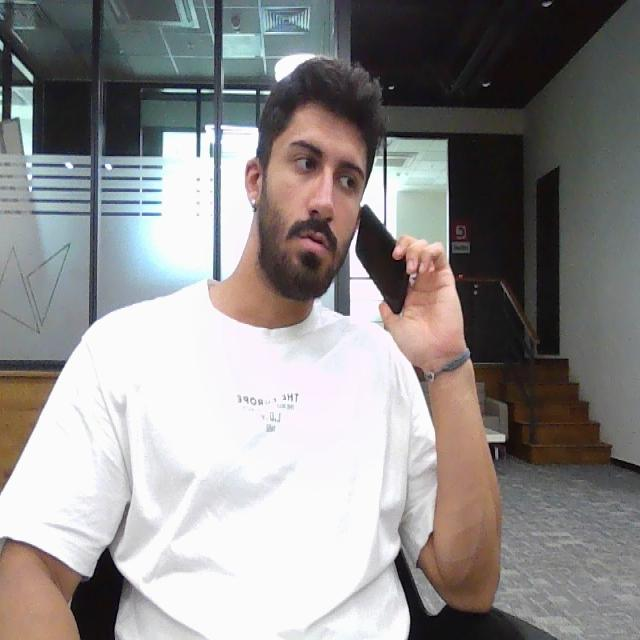phone: (351, 204, 411, 316)
